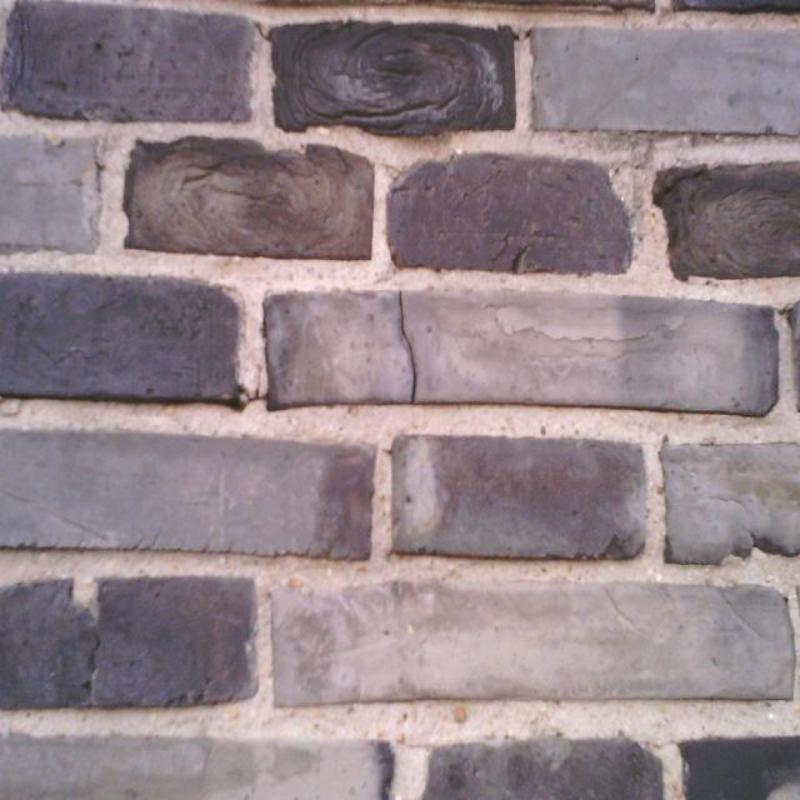pothole: (399, 292, 417, 403), (234, 386, 269, 412)
